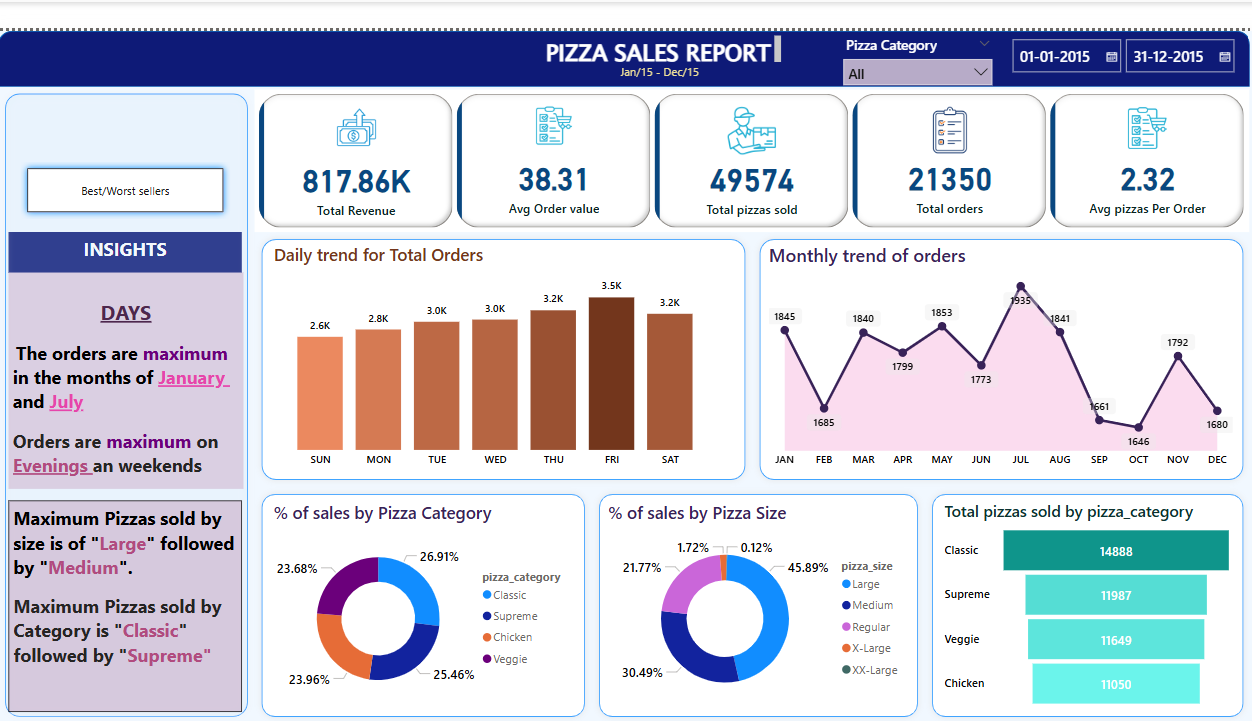

The dashboard page shown, as its layout file describes it:
{"tool":"powerbi","page":{"name":"Home","canvas":[1500,820],"ordinal":0},"visuals":[{"type":"cardVisual","fields":{"Data":["pizza_sales_excel_file.Total Revenue","pizza_sales_excel_file.Avg Order value","pizza_sales_excel_file.Total pizzas sold","pizza_sales_excel_file.Total orders","pizza_sales_excel_file.Avg pizzas Per Order"]},"box":[303.4,69.2,1178.2,168.6],"z":0},{"type":"shape","box":[0,0,1482,66],"z":1000},{"type":"textbox","box":[642.4,0,289.2,46.1],"z":2000},{"type":"textbox","box":[731.1,33.7,111.8,35.5],"z":3000},{"type":"textbox","box":[12,238,276,48],"z":4000},{"type":"shape","box":[303.4,237.8,589.1,301.7],"z":5000},{"type":"columnChart","title":"Daily trend for Total Orders","fields":{"Category":["pizza_sales_excel_file.order_day"],"Y":["pizza_sales_excel_file.Total orders"]},"box":[321.2,250.2,534.1,275],"z":6000},{"type":"shape","box":[892.6,237.8,589.1,301.7],"z":7000},{"type":"areaChart","title":"Monthly trend of orders","fields":{"Y":["pizza_sales_excel_file.Total orders"],"Category":["pizza_sales_excel_file.order_month"]},"box":[906.7,250.2,559,275],"z":8000},{"type":"shape","box":[303.4,539.4,399.3,280.4],"z":9000},{"type":"shape","box":[702.7,539.4,393.9,280.4],"z":10000},{"type":"shape","box":[1096.6,539.4,385.1,280.4],"z":11000},{"type":"shape","box":[0,66,304,754],"z":12000},{"type":"donutChart","title":"% of sales by Pizza Category","fields":{"Category":["pizza_sales_excel_file.pizza_category"],"Y":["pizza_sales_excel_file.Total Revenue"]},"box":[321.2,555.4,365.5,250.2],"z":13000},{"type":"donutChart","title":"% of sales by Pizza Size","fields":{"Y":["pizza_sales_excel_file.Total Revenue"],"Category":["pizza_sales_excel_file.pizza_size"]},"box":[716.9,555.4,365.5,250.2],"z":14000},{"type":"funnel","fields":{"Category":["pizza_sales_excel_file.pizza_category"],"Y":["pizza_sales_excel_file.Total pizzas sold"]},"box":[1114.4,555.4,351.3,250.2],"z":15000},{"type":"textbox","box":[12,286,278,256],"z":16000},{"type":"textbox","box":[12,556,276,250],"z":17000},{"type":"slicer","fields":{"Values":["pizza_sales_excel_file.pizza_category"]},"box":[990,0,196,66],"z":18000},{"type":"slicer","fields":{"Values":["pizza_sales_excel_file.order_date"]},"box":[1188,0,294,66],"z":19000},{"type":"pageNavigator","box":[26,154,248,68],"z":20000}]}

Visuals, with their boxes on the page's 1500x820 design canvas (x1, y1, x2, y2). These are canvas units, not pixel positions in the 1252x721 screenshot, which may show the page scaled, cropped or inside an application window:
cardVisual - pizza_sales_excel_file.Total Revenue x pizza_sales_excel_file.Avg Order value: x1=303, y1=69, x2=1482, y2=238
shape: x1=0, y1=0, x2=1482, y2=66
textbox: x1=642, y1=0, x2=932, y2=46
textbox: x1=731, y1=34, x2=843, y2=69
textbox: x1=12, y1=238, x2=288, y2=286
shape: x1=303, y1=238, x2=892, y2=540
"Daily trend for Total Orders" columnChart: x1=321, y1=250, x2=855, y2=525
shape: x1=893, y1=238, x2=1482, y2=540
"Monthly trend of orders" areaChart: x1=907, y1=250, x2=1466, y2=525
shape: x1=303, y1=539, x2=703, y2=820
shape: x1=703, y1=539, x2=1097, y2=820
shape: x1=1097, y1=539, x2=1482, y2=820
shape: x1=0, y1=66, x2=304, y2=820
"% of sales by Pizza Category" donutChart: x1=321, y1=555, x2=687, y2=806
"% of sales by Pizza Size" donutChart: x1=717, y1=555, x2=1082, y2=806
funnel - pizza_sales_excel_file.pizza_category x pizza_sales_excel_file.Total pizzas sold: x1=1114, y1=555, x2=1466, y2=806
textbox: x1=12, y1=286, x2=290, y2=542
textbox: x1=12, y1=556, x2=288, y2=806
slicer - pizza_sales_excel_file.pizza_category: x1=990, y1=0, x2=1186, y2=66
slicer - pizza_sales_excel_file.order_date: x1=1188, y1=0, x2=1482, y2=66
pageNavigator: x1=26, y1=154, x2=274, y2=222
